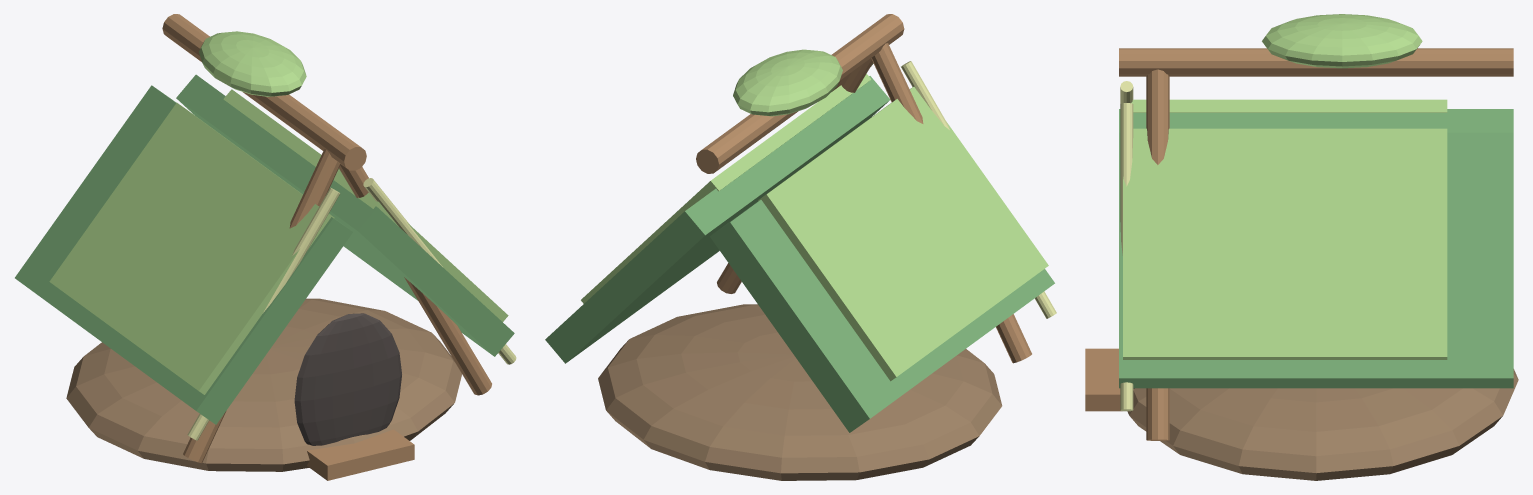
Rendered from AntLeafTent.fbx.
3 views of the same model, side by side, from view 1: azimuth 30°, elevation 25°; view 2: azimuth 150°, elevation 25°; view 3: azimuth 270°, elevation 25° (orthographic). The views are drawn at different scales.
Parts seen in each view (by area): view 1: Fresh overlapping roof leaf, Soil foundation, Sloping layered leaf roof, Sloping layered leaf roof.001, Triangular doorway, Tier leaf pennant, Roof ridge, Entrance stone, Fresh overlapping roof leaf.001, Tent branch.001, Tent branch, Leaf center vein (+1 smaller); view 2: Fresh overlapping roof leaf, Soil foundation, Sloping layered leaf roof, Sloping layered leaf roof.001, Tier leaf pennant, Roof ridge, Fresh overlapping roof leaf.001, Tent branch, Leaf center vein, Tent branch.001; view 3: Fresh overlapping roof leaf.001, Sloping layered leaf roof.001, Soil foundation, Roof ridge, Tier leaf pennant, Sloping layered leaf roof, Fresh overlapping roof leaf, Tent branch.001, Entrance stone, Leaf center vein.001.
Part boxes in pixels (left/top/right/bottom): Fresh overlapping roof leaf: left=49, top=103, right=334, bottom=394; Soil foundation: left=66, top=298, right=461, bottom=471; Sloping layered leaf roof: left=15, top=85, right=352, bottom=424; Sloping layered leaf roof.001: left=176, top=74, right=514, bottom=356; Triangular doorway: left=294, top=313, right=401, bottom=445; Tier leaf pennant: left=199, top=31, right=306, bottom=96; Roof ridge: left=162, top=14, right=366, bottom=170; Entrance stone: left=307, top=429, right=414, bottom=480; Fresh overlapping roof leaf.001: left=223, top=89, right=508, bottom=321; Tent branch.001: left=339, top=164, right=491, bottom=395; Tent branch: left=183, top=149, right=340, bottom=463; Leaf center vein: left=187, top=187, right=340, bottom=440; Fresh overlapping roof leaf: left=758, top=86, right=1048, bottom=381; Soil foundation: left=598, top=304, right=1002, bottom=480; Sloping layered leaf roof: left=710, top=200, right=1054, bottom=432; Sloping layered leaf roof.001: left=545, top=76, right=890, bottom=363; Tier leaf pennant: left=733, top=49, right=842, bottom=116; Roof ridge: left=696, top=14, right=904, bottom=173; Fresh overlapping roof leaf.001: left=581, top=73, right=871, bottom=303; Tent branch: left=871, top=43, right=1031, bottom=363; Leaf center vein: left=901, top=61, right=1056, bottom=318; Tent branch.001: left=717, top=58, right=872, bottom=293; Fresh overlapping roof leaf.001: left=1123, top=128, right=1447, bottom=359; Sloping layered leaf roof.001: left=1119, top=132, right=1513, bottom=388; Soil foundation: left=1127, top=369, right=1518, bottom=480; Roof ridge: left=1119, top=48, right=1513, bottom=76; Tier leaf pennant: left=1262, top=14, right=1422, bottom=68; Sloping layered leaf roof: left=1119, top=109, right=1513, bottom=132; Fresh overlapping roof leaf: left=1131, top=99, right=1447, bottom=112; Tent branch.001: left=1146, top=69, right=1169, bottom=440; Entrance stone: left=1085, top=348, right=1122, bottom=411; Leaf center vein.001: left=1120, top=103, right=1133, bottom=411.
Bounding box in the file's own units: 170 × 169 × 167.
